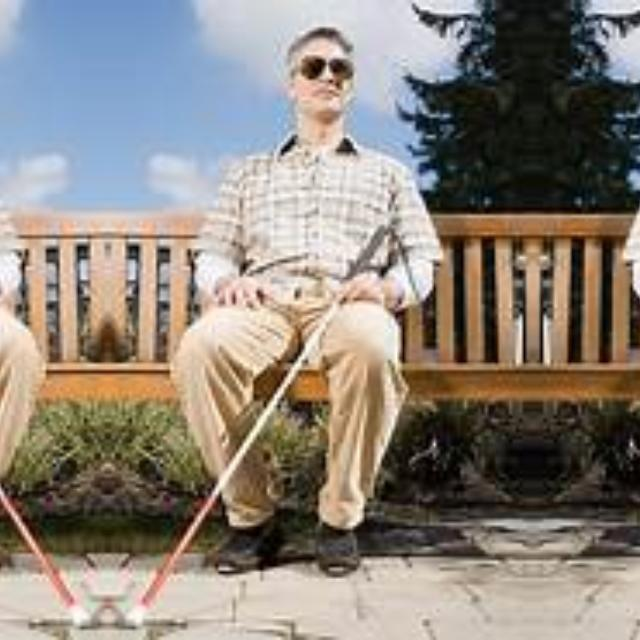person: (185, 1, 439, 580), (0, 0, 29, 579), (626, 0, 640, 579)
